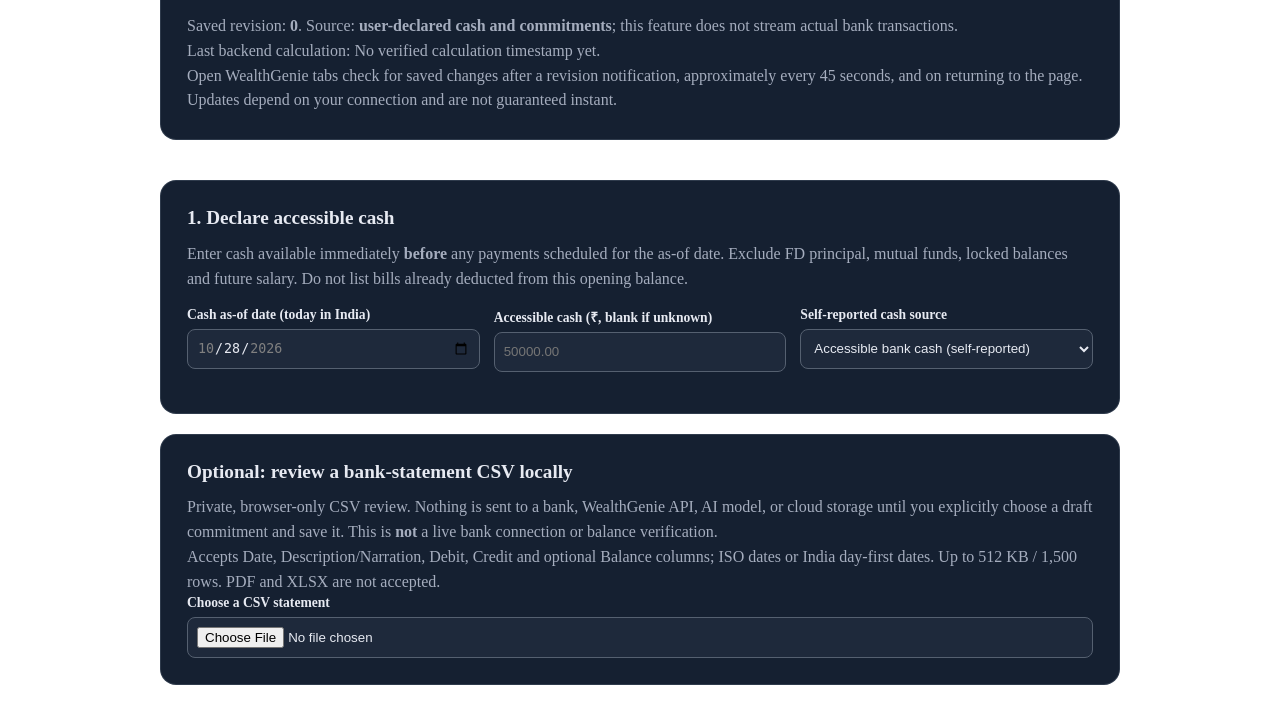
Test: 90-day cash check › rejects even one paisa beyond the supported exact backend limit
(page scrolled)
In the field with placeholder "50000.00": (640, 352) left=494, top=332, right=786, bottom=372, type "10000000000.01"
(page scrolled)
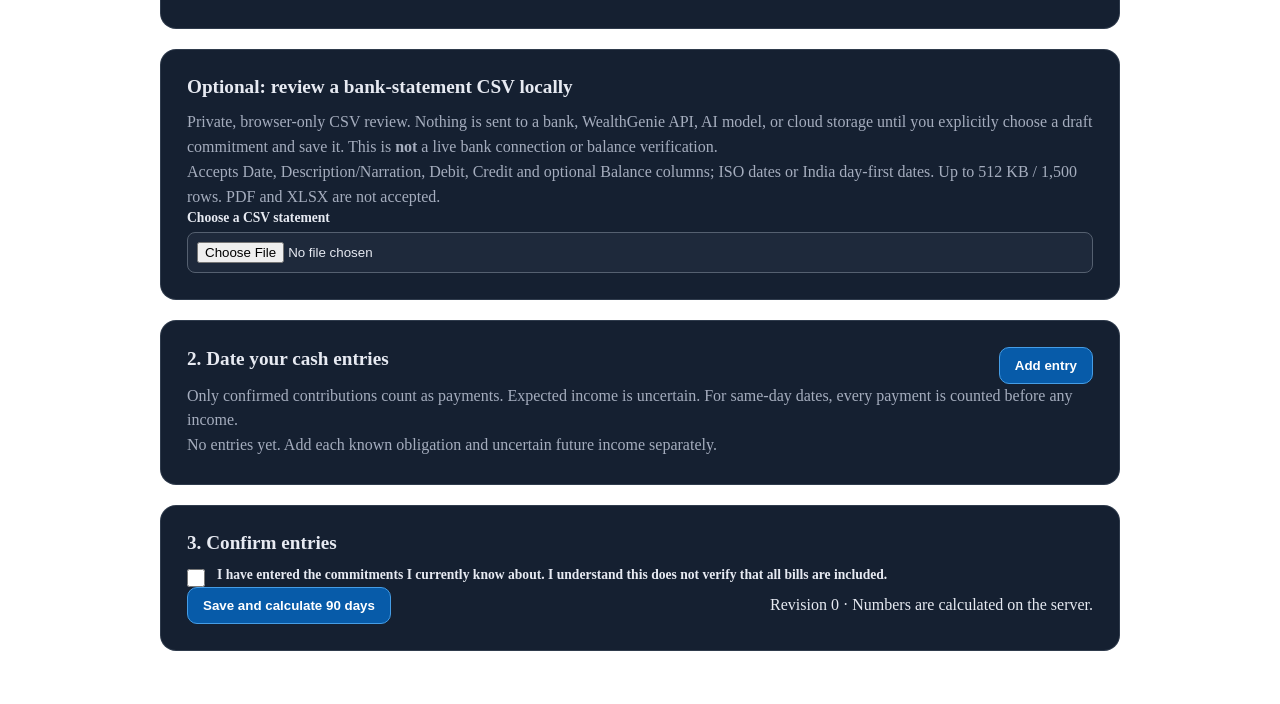
Click the button "Save and calculate 90 days": (289, 605) left=187, top=587, right=391, bottom=624
(page scrolled)
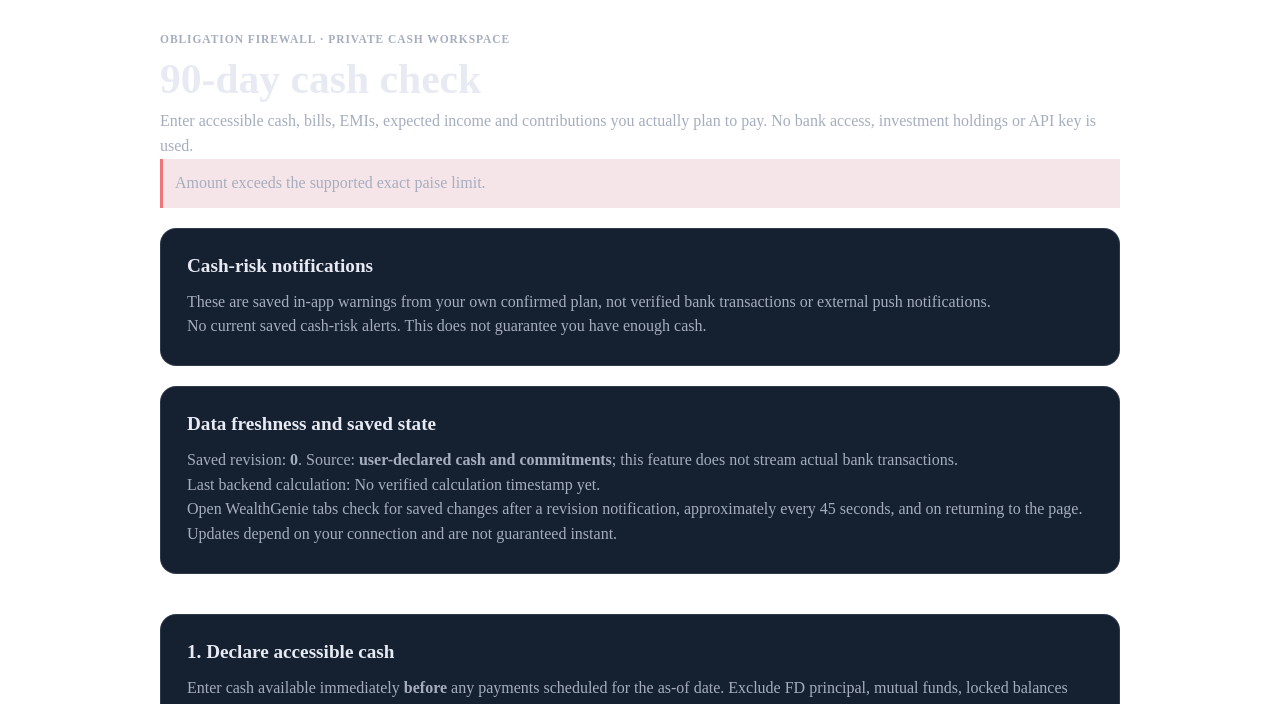
expect the text "Amount exceeds the supported exact paise limit." is shown: met, box left=160, top=159, right=1120, bottom=208
